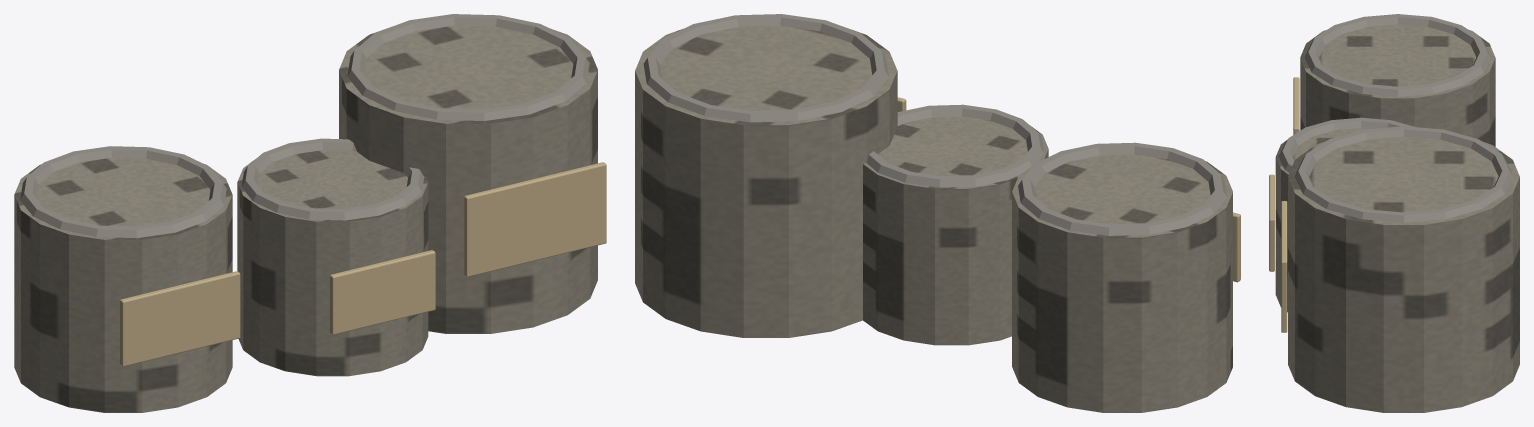
The model's file is basement-paint-cans.glb.
3 views of the same model, side by side, from view 1: azimuth 30°, elevation 25°; view 2: azimuth 150°, elevation 25°; view 3: azimuth 270°, elevation 25° (orthographic). The views are drawn at different scales.
Visible parts, largest first — view 1: SM_lonely_basement_paint_cans_Metal_DirtyEnamel, SM_lonely_basement_paint_cans_Paper_Label, SM_lonely_basement_paint_cans_Metal_DullChrome; view 2: SM_lonely_basement_paint_cans_Metal_DirtyEnamel, SM_lonely_basement_paint_cans_Metal_DullChrome, SM_lonely_basement_paint_cans_Paper_Label; view 3: SM_lonely_basement_paint_cans_Metal_DirtyEnamel, SM_lonely_basement_paint_cans_Metal_DullChrome, SM_lonely_basement_paint_cans_Paper_Label.
Boxes of the visible parts, x1,y1,x2,y2 form: SM_lonely_basement_paint_cans_Metal_DirtyEnamel: (14,25,597,412); SM_lonely_basement_paint_cans_Paper_Label: (120,162,606,366); SM_lonely_basement_paint_cans_Metal_DullChrome: (20,14,589,238); SM_lonely_basement_paint_cans_Metal_DirtyEnamel: (635,25,1232,412); SM_lonely_basement_paint_cans_Metal_DullChrome: (643,14,1227,235); SM_lonely_basement_paint_cans_Paper_Label: (897,97,1240,282); SM_lonely_basement_paint_cans_Metal_DirtyEnamel: (1275,24,1519,412); SM_lonely_basement_paint_cans_Metal_DullChrome: (1278,14,1513,222); SM_lonely_basement_paint_cans_Paper_Label: (1269,77,1299,332).
Size of the model in its own units: 0.9347 by 0.3504 by 0.411.
3 materials, 1 textured.
